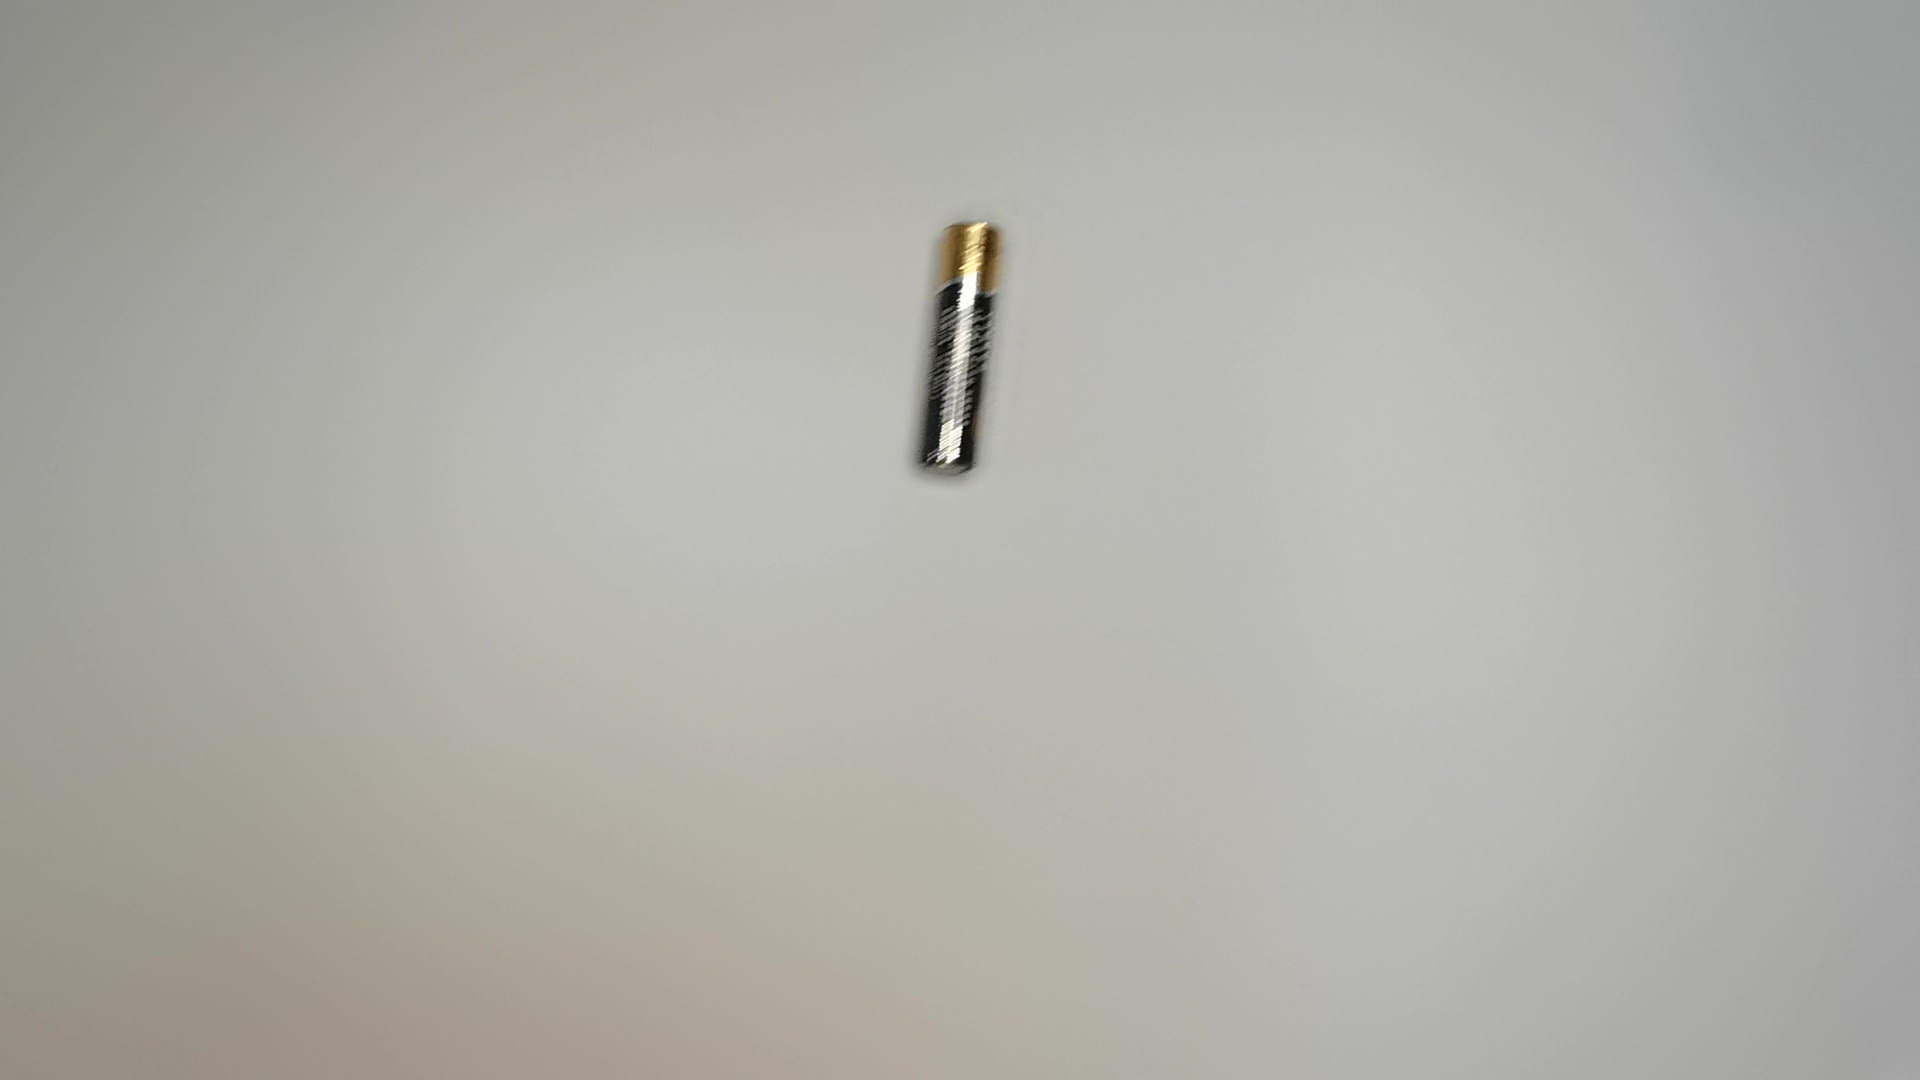battery: (899, 218, 1007, 479)
